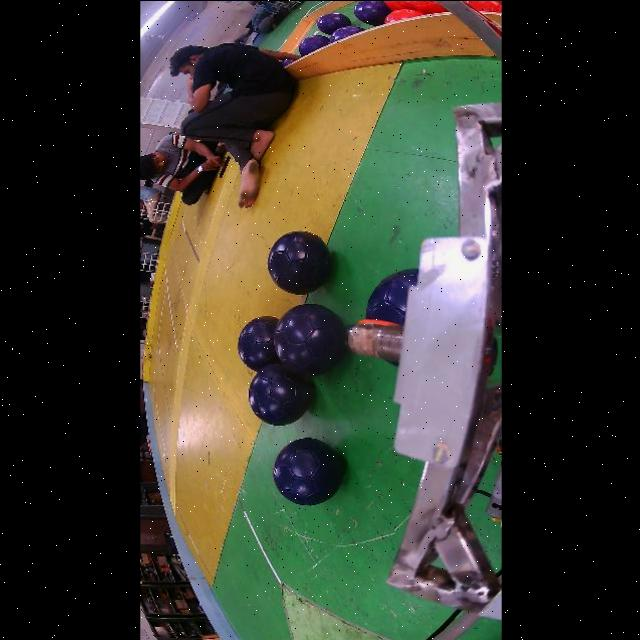B: (276, 304, 349, 377), (274, 437, 345, 504), (269, 231, 332, 296), (249, 363, 314, 425), (366, 267, 420, 324), (238, 315, 283, 371)
P: (354, 0, 392, 25), (318, 12, 352, 33), (299, 33, 330, 55), (330, 25, 366, 42)
R: (386, 8, 425, 22), (462, 0, 503, 12), (413, 0, 449, 13), (386, 0, 415, 10)
